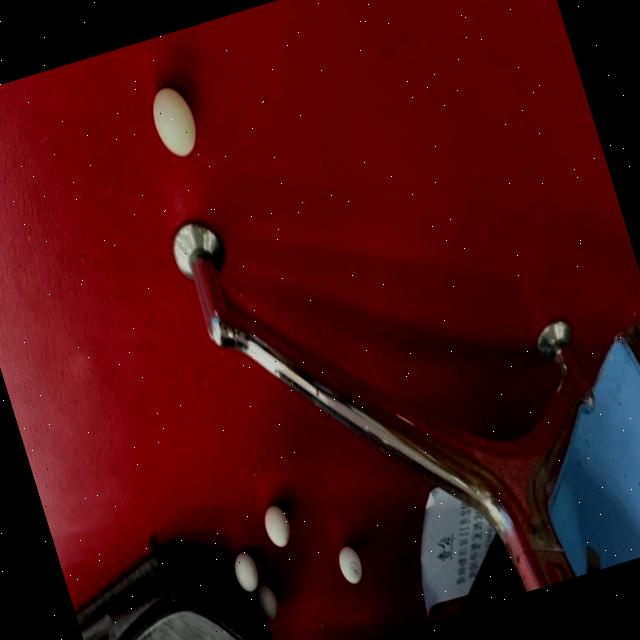ping-pong-ball: (142, 77, 205, 164), (257, 499, 299, 553), (226, 544, 267, 598), (331, 538, 368, 590), (250, 578, 284, 624)
